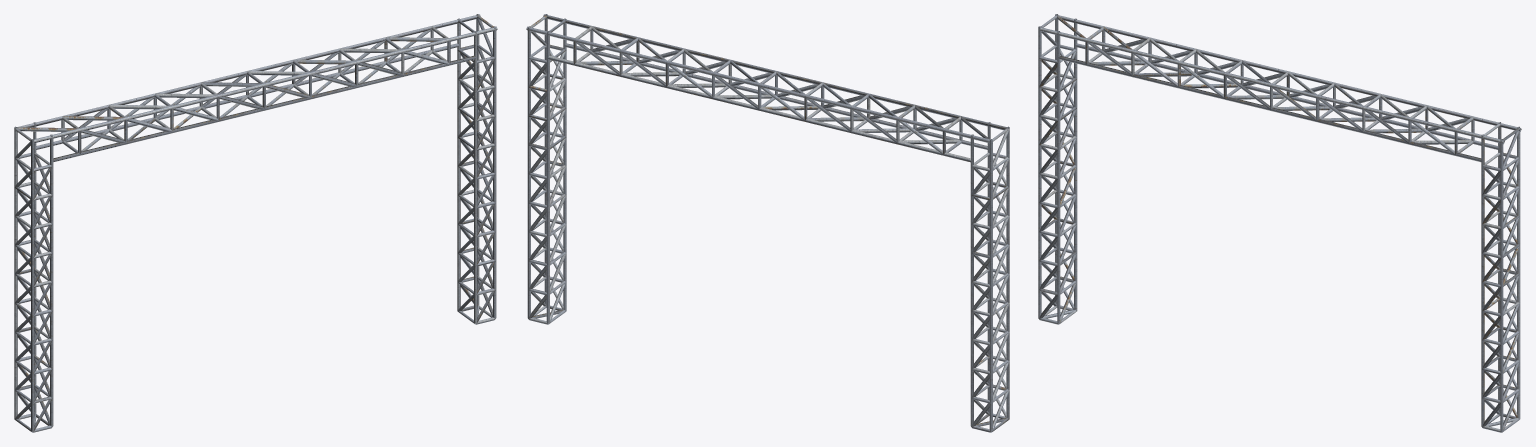
Rendered from MetalFrame.FBX.
3 views of the same model, side by side, from view 1: azimuth 30°, elevation 25°; view 2: azimuth 150°, elevation 25°; view 3: azimuth 330°, elevation 25° (orthographic).
Visible parts, largest first — view 1: MetalFrame; view 2: MetalFrame; view 3: MetalFrame.
Boxes of the visible parts, x1,y1,x2,y2 form: MetalFrame: (14, 14, 497, 432); MetalFrame: (526, 14, 1009, 432); MetalFrame: (1038, 14, 1521, 432).
Size of the model in its own units: 573 by 345 by 39.89.
1 material, 1 textured.
